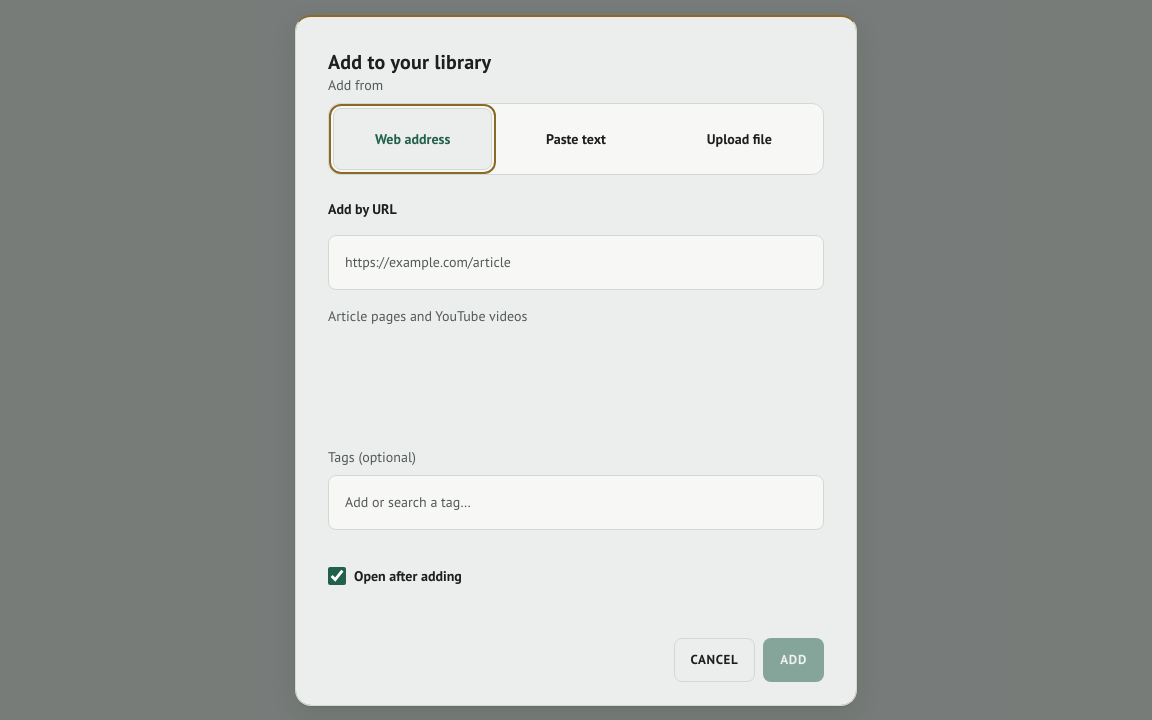
Scenario: AddDialog tags: tags ride the saved record › dedupe-refusal never reaches a save — tags don't influence D7-07
This screenshot has width=1152, height=720.
In the field labelled "Add by URL": x=576, y=263 [328,235,824,290], type "https://example.com/tagged"
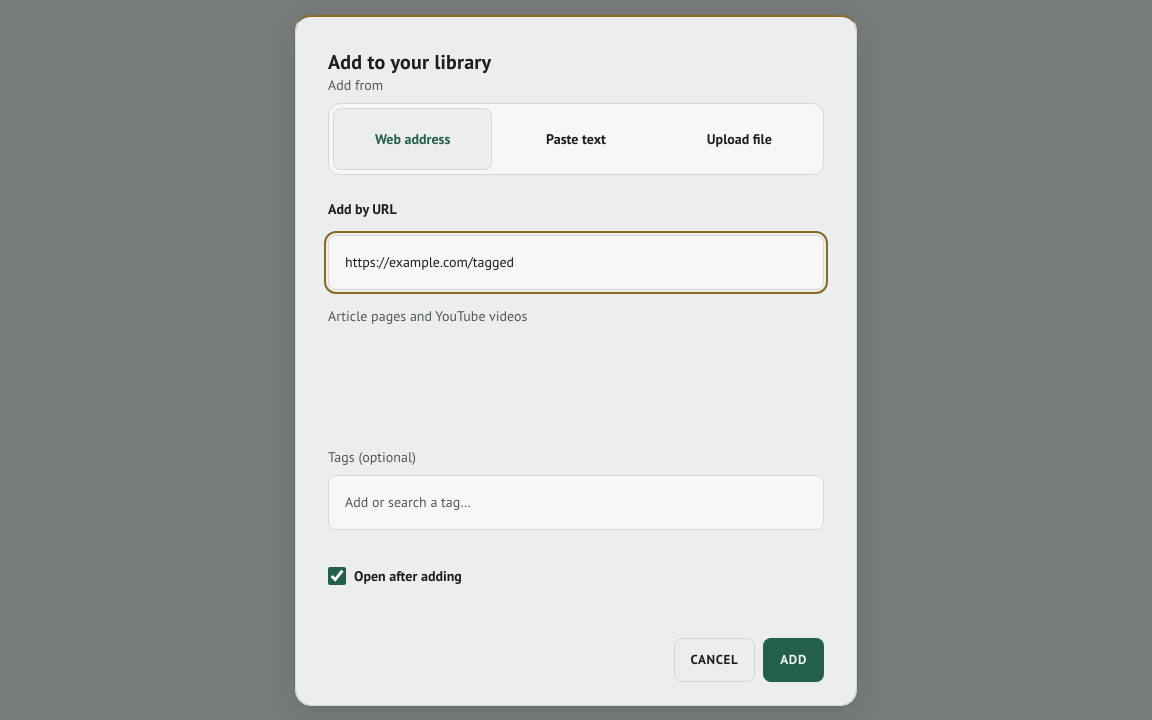
In the dropdown labelled "Add or search a tag": x=576, y=503 [328,475,824,530], type "essays"
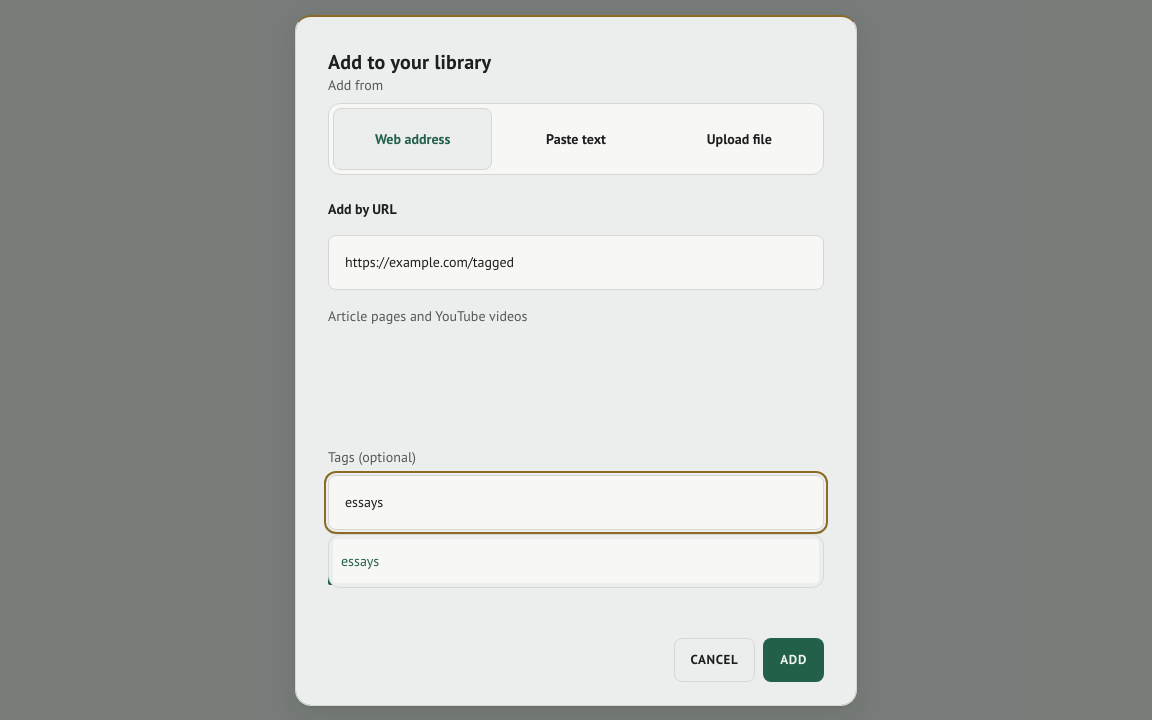
Press Enter
(page scrolled)
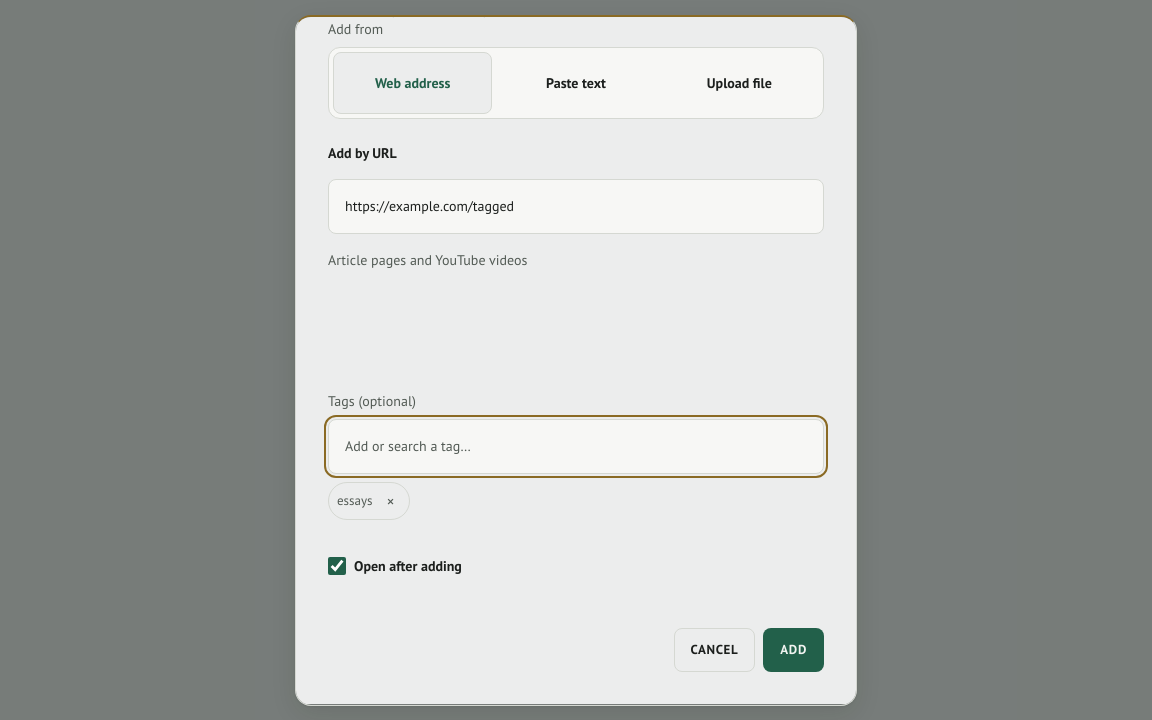
Click the button "Add": x=794, y=650 [763,628,824,672]
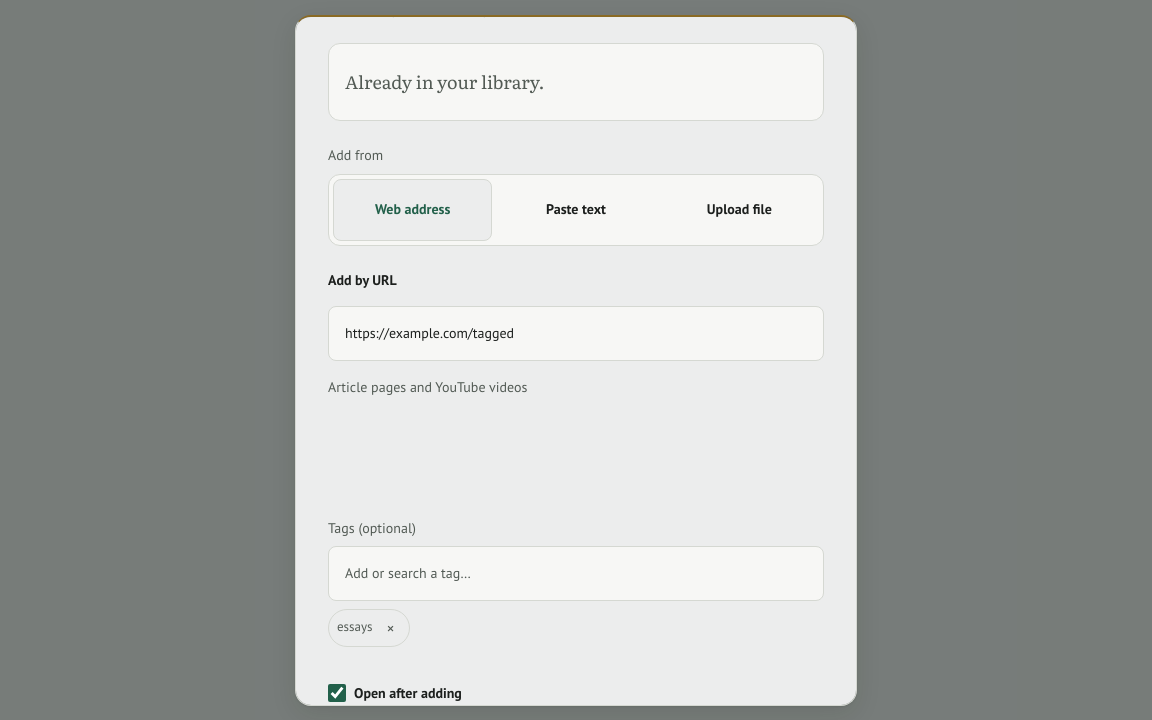
expect the text "Already in your library." is shown: met, box [345,68,544,94]
